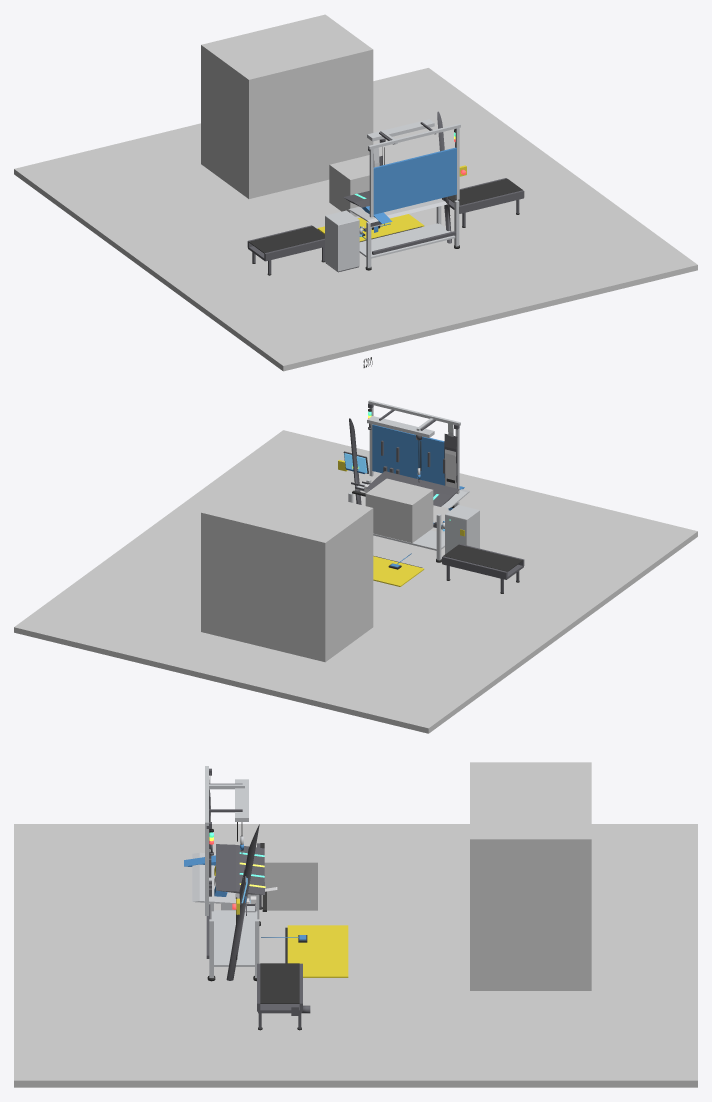
File: assembly_station.glb
3 renders of one model, top to bottom at view 1: azimuth 30°, elevation 25°; view 2: azimuth 150°, elevation 25°; view 3: azimuth 270°, elevation 25°, orthographic. The views are drawn at different scales.
Visible parts, largest first — view 1: PHYS_Review_FloorPatch, TRIGGER_Info_Assembly, STATION_02_Assembly_ToolRack, STATION_02_Assembly_Cabinet, STATION_02_Assembly_InteractionZone, STATION_02_Assembly_LowerShelf, CONVEYOR_Assembly_Input, CONVEYOR_Assembly_Output, STATION_02_Assembly_OperatorZone, STATION_02_Assembly_BinShelf, STATION_02_Assembly_ConvOutSide_1; view 2: PHYS_Review_FloorPatch, TRIGGER_Info_Assembly, STATION_02_Assembly_InteractionZone, STATION_02_Assembly_ToolRack, STATION_02_Assembly_Cabinet, CONVEYOR_Assembly_Input, STATION_02_Assembly_OperatorZone, STATION_02_Assembly_PickLightRail, STATION_02_Assembly_TaskLight, STATION_02_Assembly_ConvInSide_2, STATION_02_Assembly_CabinetDoor; view 3: PHYS_Review_FloorPatch, TRIGGER_Info_Assembly, STATION_02_Assembly_InteractionZone, STATION_02_Assembly_OperatorZone, STATION_02_Assembly_LowerShelf, STATION_02_Assembly_PickLightRail, CONVEYOR_Assembly_Output, STATION_02_Assembly_HMIPole, STATION_02_Assembly_BinShelf, STATION_02_Assembly_TaskLight.
Boxes of the visible parts, left/top/right/bottom form: PHYS_Review_FloorPatch: left=14, top=68, right=697, bottom=371; TRIGGER_Info_Assembly: left=201, top=14, right=373, bottom=198; STATION_02_Assembly_ToolRack: left=373, top=147, right=456, bottom=214; STATION_02_Assembly_Cabinet: left=325, top=210, right=359, bottom=271; STATION_02_Assembly_InteractionZone: left=329, top=155, right=389, bottom=216; STATION_02_Assembly_LowerShelf: left=359, top=223, right=455, bottom=258; CONVEYOR_Assembly_Input: left=249, top=226, right=324, bottom=253; CONVEYOR_Assembly_Output: left=448, top=178, right=522, bottom=205; STATION_02_Assembly_OperatorZone: left=317, top=214, right=424, bottom=241; STATION_02_Assembly_BinShelf: left=349, top=198, right=447, bottom=223; STATION_02_Assembly_ConvOutSide_1: left=459, top=190, right=524, bottom=213; PHYS_Review_FloorPatch: left=14, top=430, right=697, bottom=733; TRIGGER_Info_Assembly: left=201, top=477, right=373, bottom=662; STATION_02_Assembly_InteractionZone: left=365, top=478, right=433, bottom=542; STATION_02_Assembly_ToolRack: left=372, top=424, right=444, bottom=485; STATION_02_Assembly_Cabinet: left=445, top=505, right=479, bottom=554; CONVEYOR_Assembly_Input: left=443, top=544, right=522, bottom=571; STATION_02_Assembly_OperatorZone: left=373, top=556, right=424, bottom=586; STATION_02_Assembly_PickLightRail: left=366, top=471, right=459, bottom=506; STATION_02_Assembly_TaskLight: left=367, top=416, right=434, bottom=437; STATION_02_Assembly_ConvInSide_2: left=442, top=556, right=507, bottom=578; STATION_02_Assembly_CabinetDoor: left=446, top=516, right=464, bottom=552; PHYS_Review_FloorPatch: left=14, top=824, right=697, bottom=1087; TRIGGER_Info_Assembly: left=470, top=762, right=591, bottom=990; STATION_02_Assembly_InteractionZone: left=264, top=833, right=317, bottom=910; STATION_02_Assembly_OperatorZone: left=287, top=925, right=348, bottom=977; STATION_02_Assembly_LowerShelf: left=211, top=910, right=257, bottom=966; STATION_02_Assembly_PickLightRail: left=216, top=844, right=264, bottom=894; CONVEYOR_Assembly_Output: left=260, top=963, right=299, bottom=1003; STATION_02_Assembly_HMIPole: left=226, top=824, right=259, bottom=980; STATION_02_Assembly_BinShelf: left=192, top=852, right=235, bottom=904; STATION_02_Assembly_TaskLight: left=235, top=779, right=248, bottom=821.
Size of what is drawn, in the model's own units: 8 by 4.24 by 9.
